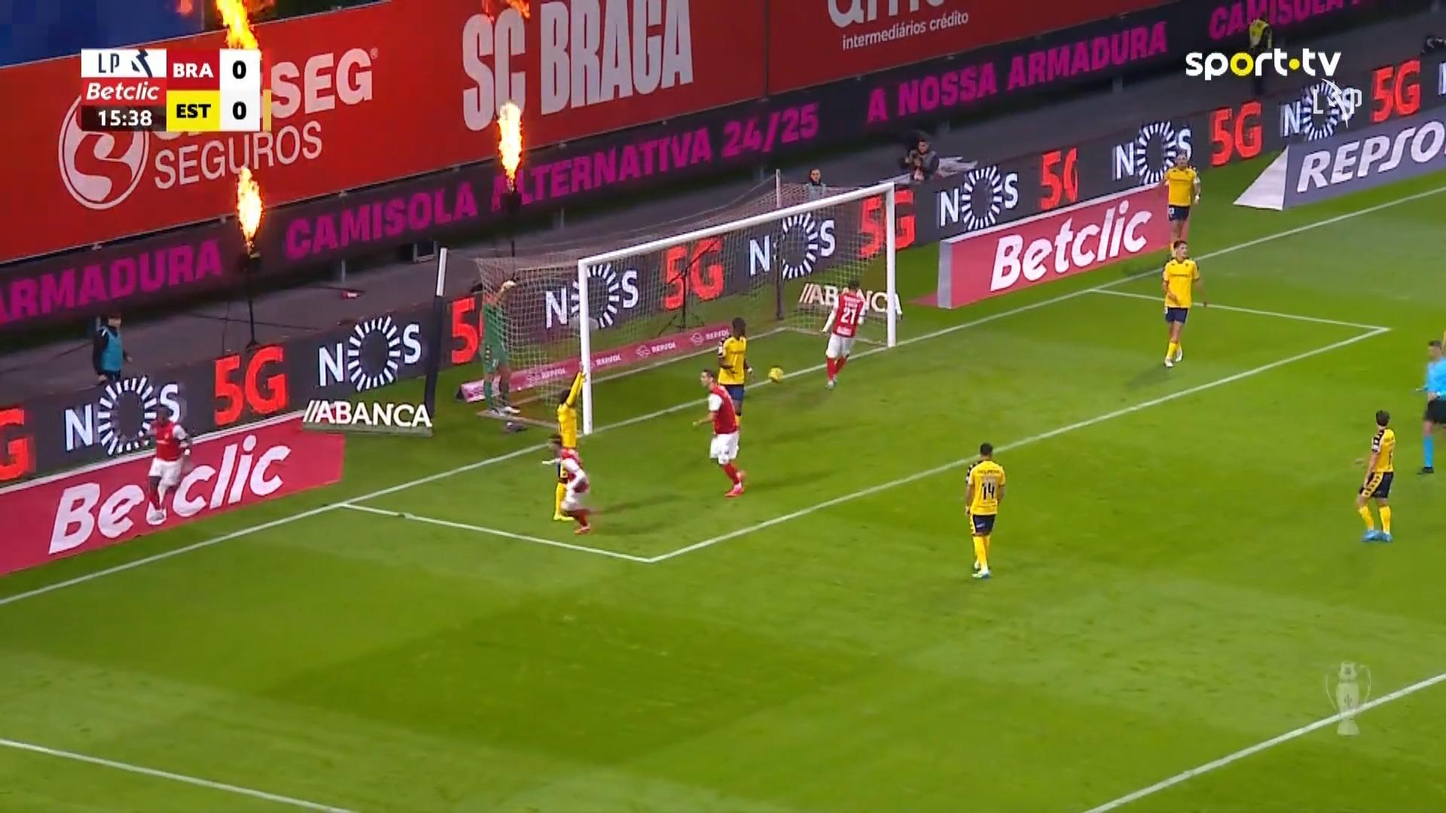ball: (767, 367, 782, 382)
goalkeeper: (477, 279, 521, 416)
player: (691, 368, 746, 497), (138, 403, 191, 525), (1160, 238, 1207, 367), (962, 442, 1006, 579), (1354, 409, 1396, 542), (541, 433, 593, 535), (819, 279, 867, 389), (1160, 150, 1201, 257), (715, 316, 753, 424), (553, 363, 587, 458)
referee: (1415, 333, 1444, 474)
